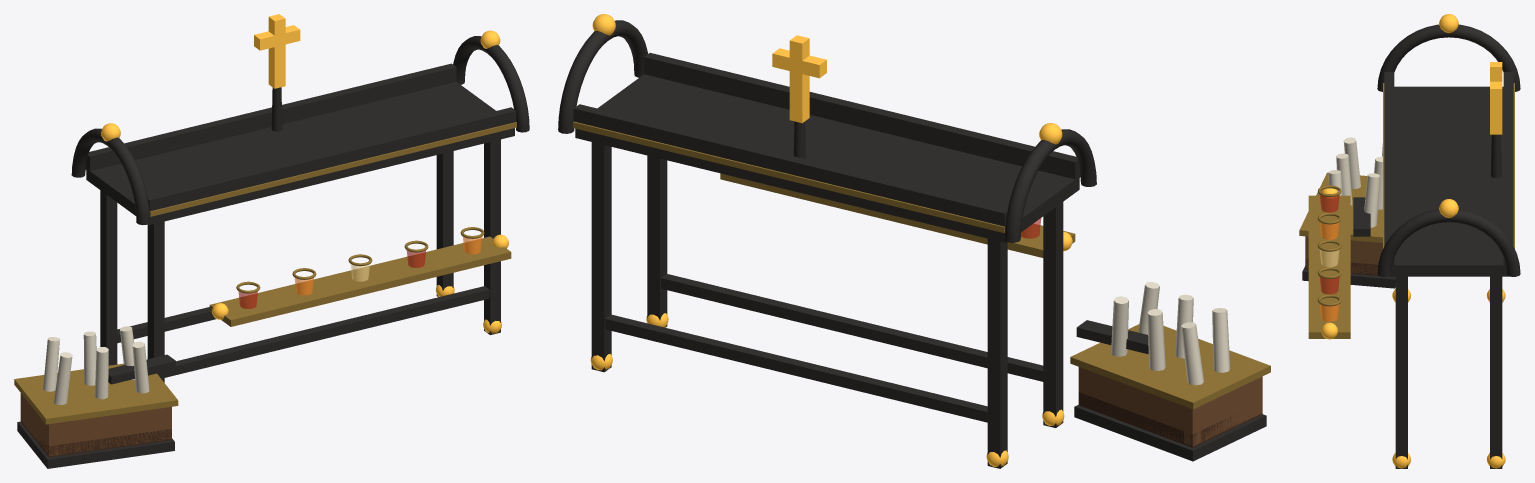
Rendered from altar-tray.glb.
3 renders of one model, left to right at view 1: azimuth 30°, elevation 25°; view 2: azimuth 150°, elevation 25°; view 3: azimuth 270°, elevation 25°, orthographic. The views are drawn at different scales.
Visible parts, largest first — view 1: object 1, Basket, object 22, object 15, object 14, object 10, object 2, object 8, object 4, object 16, object 18, object 20 (+4 smaller); view 2: object 1, Basket, object 14, object 15, object 11, object 10, object 2, object 6, object 4, object 8, object 17, object 18 (+4 smaller); view 3: object 1, object 22, Basket, object 20, object 6, object 8, object 18, object 14, object 15, Cup (×5), Cross, object 35 (+5 smaller).
Part boxes in pixels (left/top/right/bottom): object 1: left=86, top=82, right=514, bottom=225; Basket: left=14, top=326, right=178, bottom=468; object 22: left=209, top=236, right=511, bottom=326; object 15: left=85, top=63, right=456, bottom=171; object 14: left=147, top=107, right=516, bottom=211; object 10: left=164, top=286, right=489, bottom=377; object 2: left=100, top=190, right=117, bottom=365; object 8: left=484, top=139, right=500, bottom=334; object 4: left=147, top=221, right=164, bottom=382; object 16: left=149, top=122, right=516, bottom=216; object 18: left=71, top=128, right=149, bottom=225; object 20: left=453, top=36, right=529, bottom=132; object 1: left=575, top=74, right=1079, bottom=242; Basket: left=1070, top=282, right=1270, bottom=461; object 14: left=644, top=53, right=1080, bottom=180; object 15: left=573, top=104, right=1007, bottom=226; object 11: left=605, top=314, right=987, bottom=422; object 10: left=661, top=274, right=1043, bottom=381; object 2: left=987, top=238, right=1007, bottom=468; object 6: left=591, top=142, right=611, bottom=372; object 4: left=1043, top=202, right=1063, bottom=427; object 8: left=647, top=155, right=667, bottom=327; object 17: left=573, top=121, right=1004, bottom=232; object 18: left=1004, top=129, right=1096, bottom=242; object 1: left=1388, top=86, right=1509, bottom=276; object 22: left=1308, top=195, right=1350, bottom=338; Basket: left=1299, top=137, right=1395, bottom=288; object 20: left=1377, top=209, right=1520, bottom=276; object 6: left=1490, top=276, right=1502, bottom=468; object 8: left=1395, top=276, right=1407, bottom=468; object 18: left=1377, top=24, right=1520, bottom=91; object 14: left=1384, top=72, right=1394, bottom=266; object 15: left=1503, top=72, right=1513, bottom=266; Cup (×5): left=1319, top=195, right=1339, bottom=321; Cross: left=1490, top=62, right=1502, bottom=134; object 35: left=1353, top=197, right=1370, bottom=236.
Size of the model in its own units: 2.38 by 1.43 by 0.8896.
